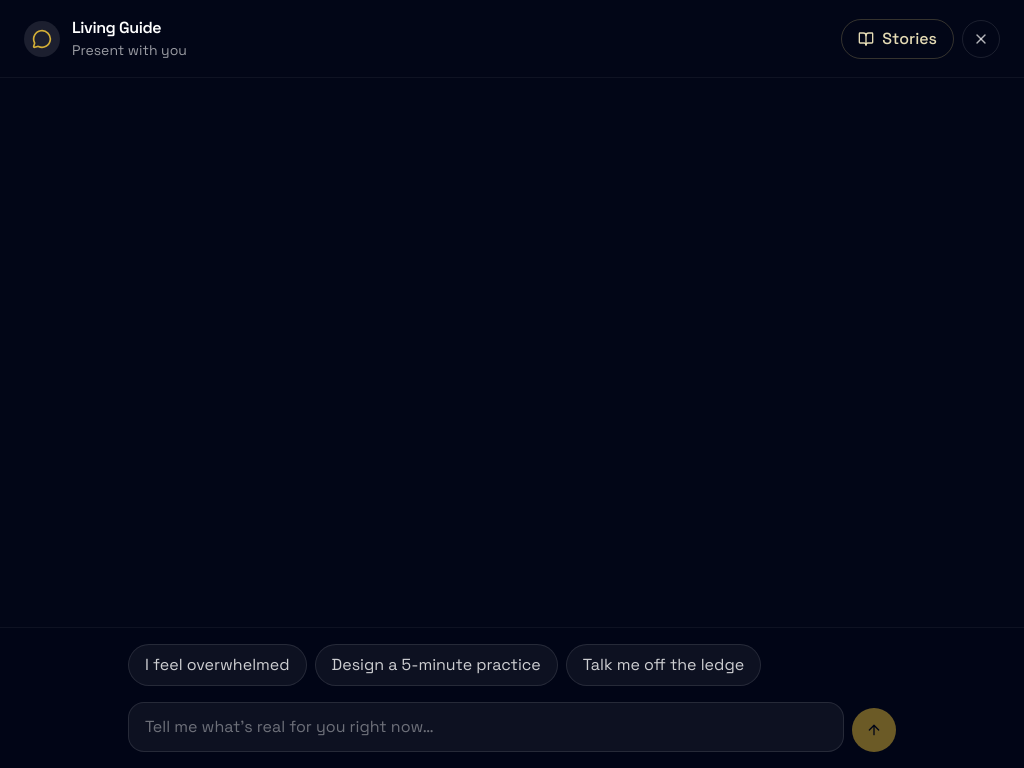
Test: GuidePage › sends and saves account memory only when the user enabled it
The image size is (1024, 768).
Type "Can we continue?" into the text box named "Message the Living Guide" at (486, 727), box [128,702,844,752]
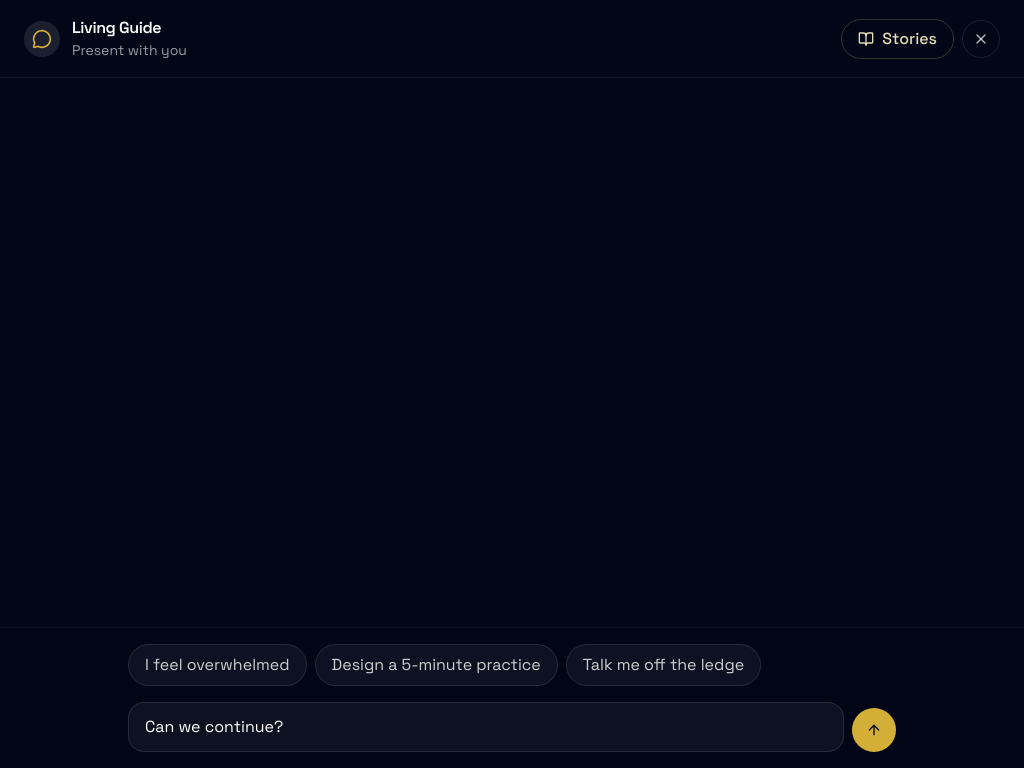
Click the button named "Send message" at (874, 730), box [852,708,896,752]
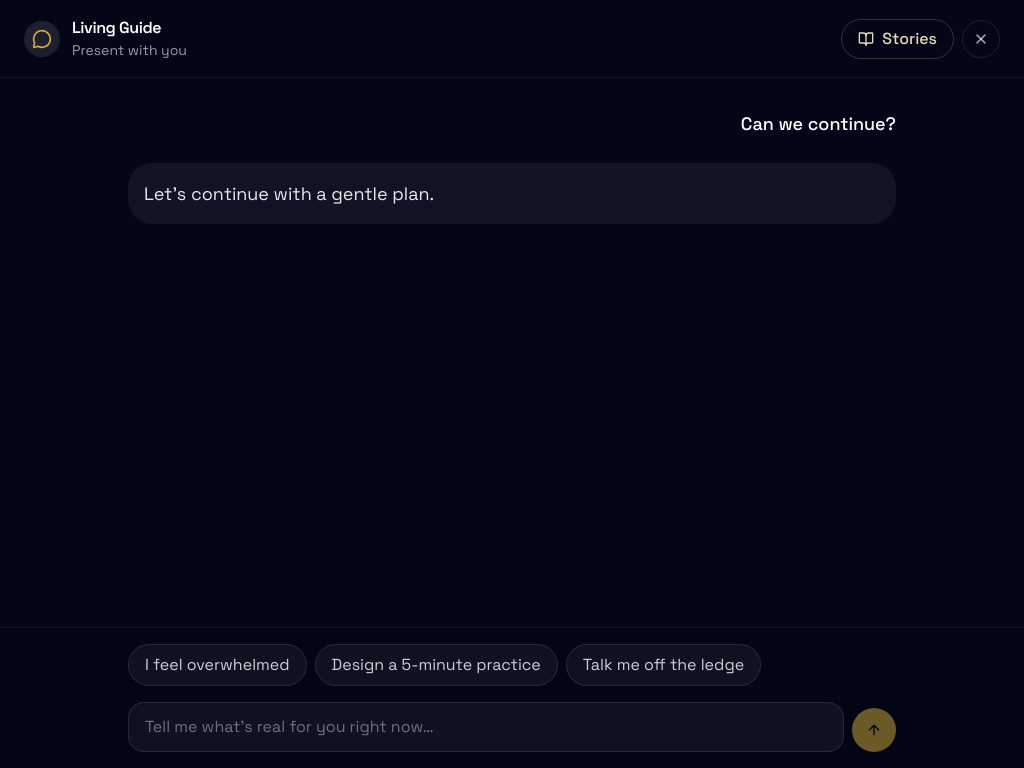
Expected: the text "Let's continue with a gentle plan." is shown, [128,163,896,224]
